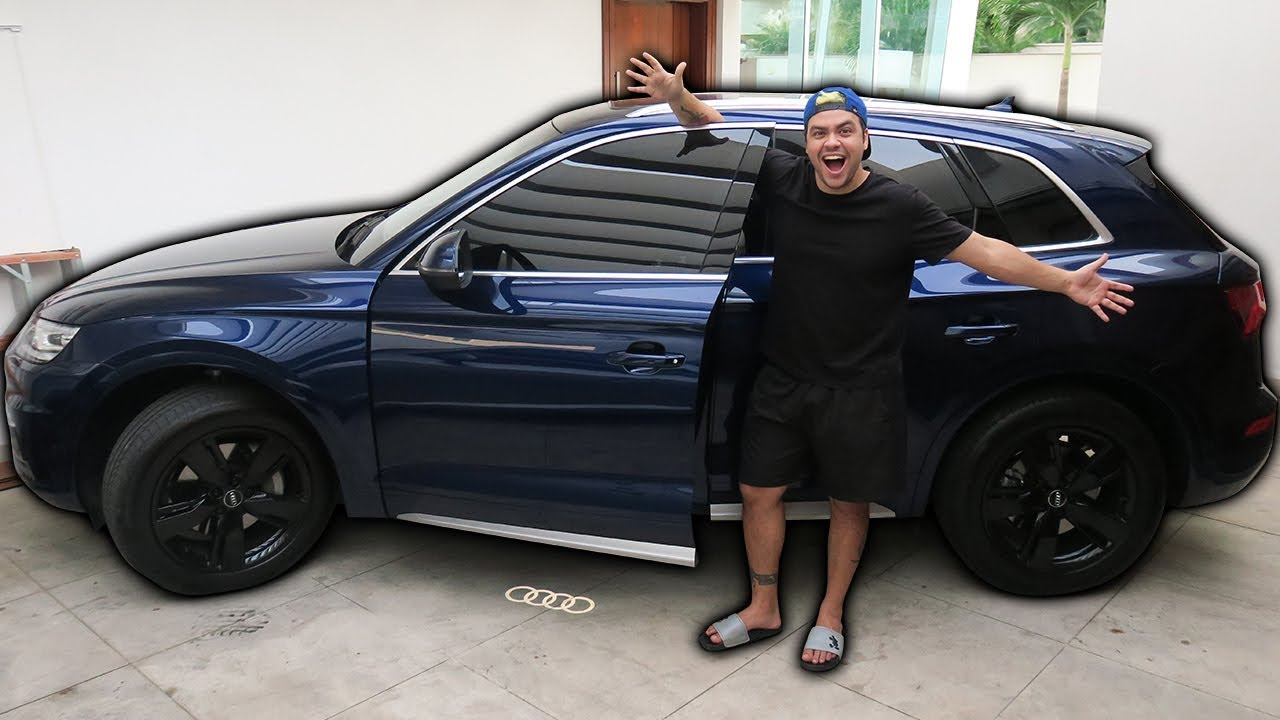Carro: (12, 86, 1279, 615)
